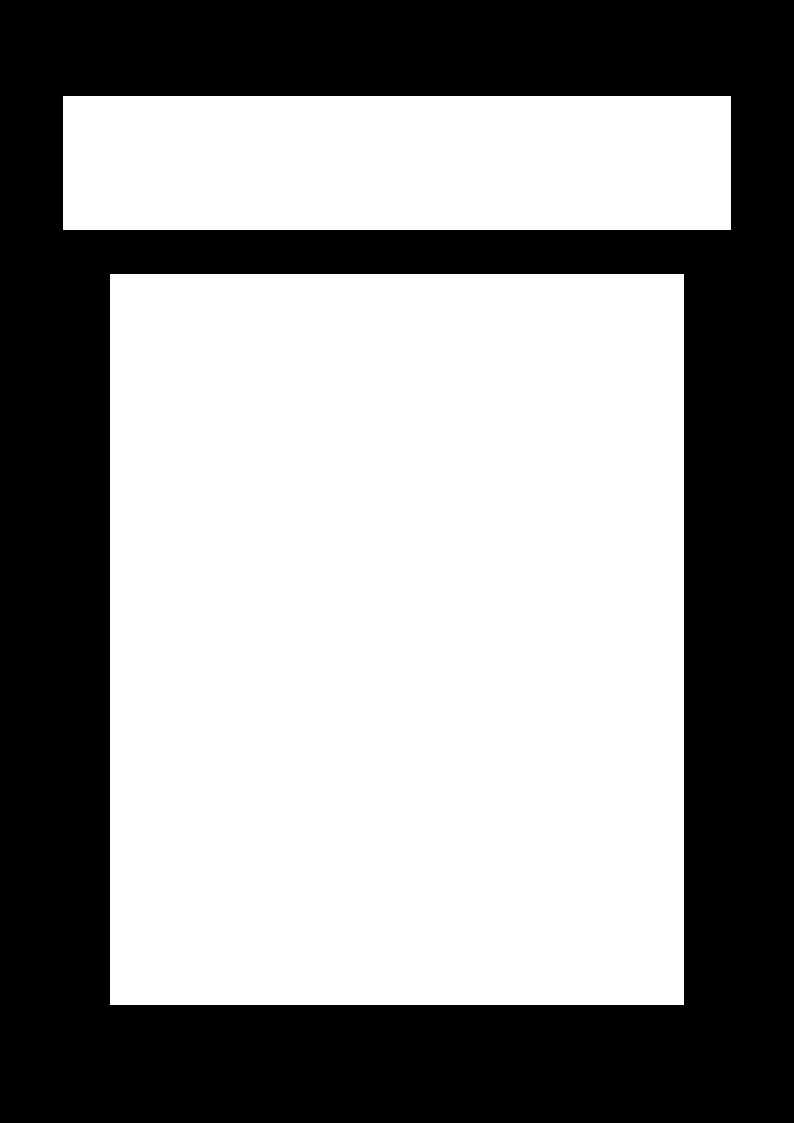table: (110, 274, 683, 1004), (63, 96, 730, 229)
